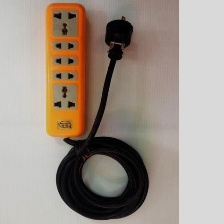three_eye_plug: (42, 0, 89, 140)
